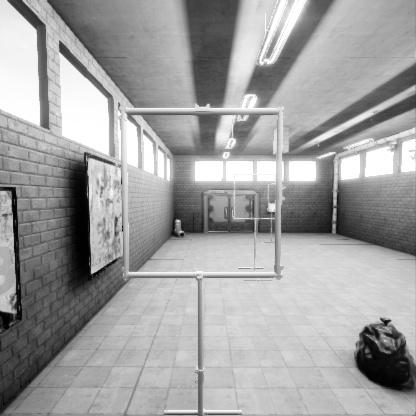gate: (128, 150, 287, 307), (234, 199, 279, 243), (267, 206, 276, 234)
